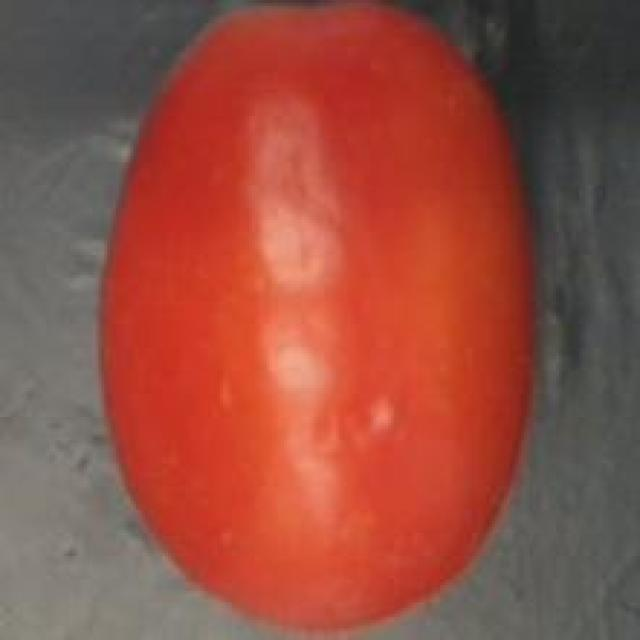ripe tomato: (87, 0, 550, 640)
